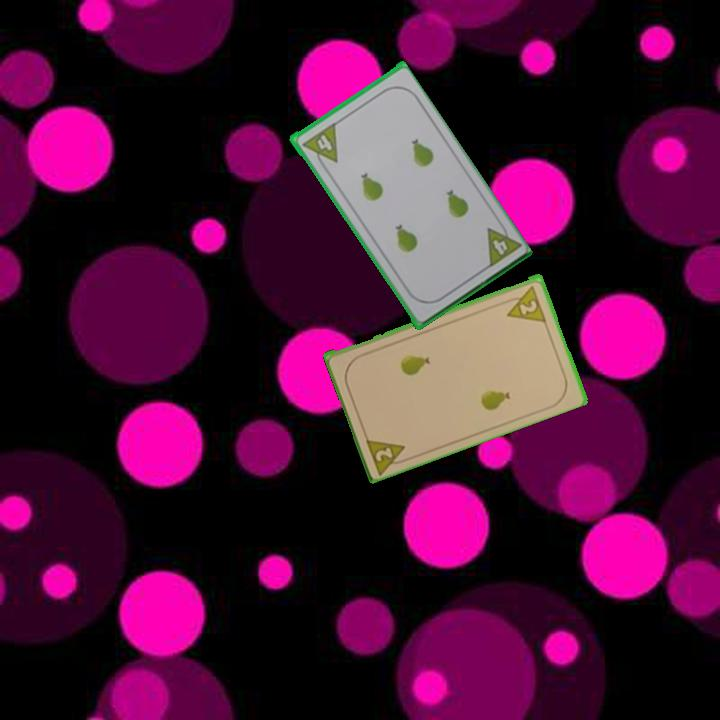2p: (362, 433, 413, 476), (500, 282, 549, 324)
4p: (298, 120, 341, 172), (483, 217, 523, 271)
